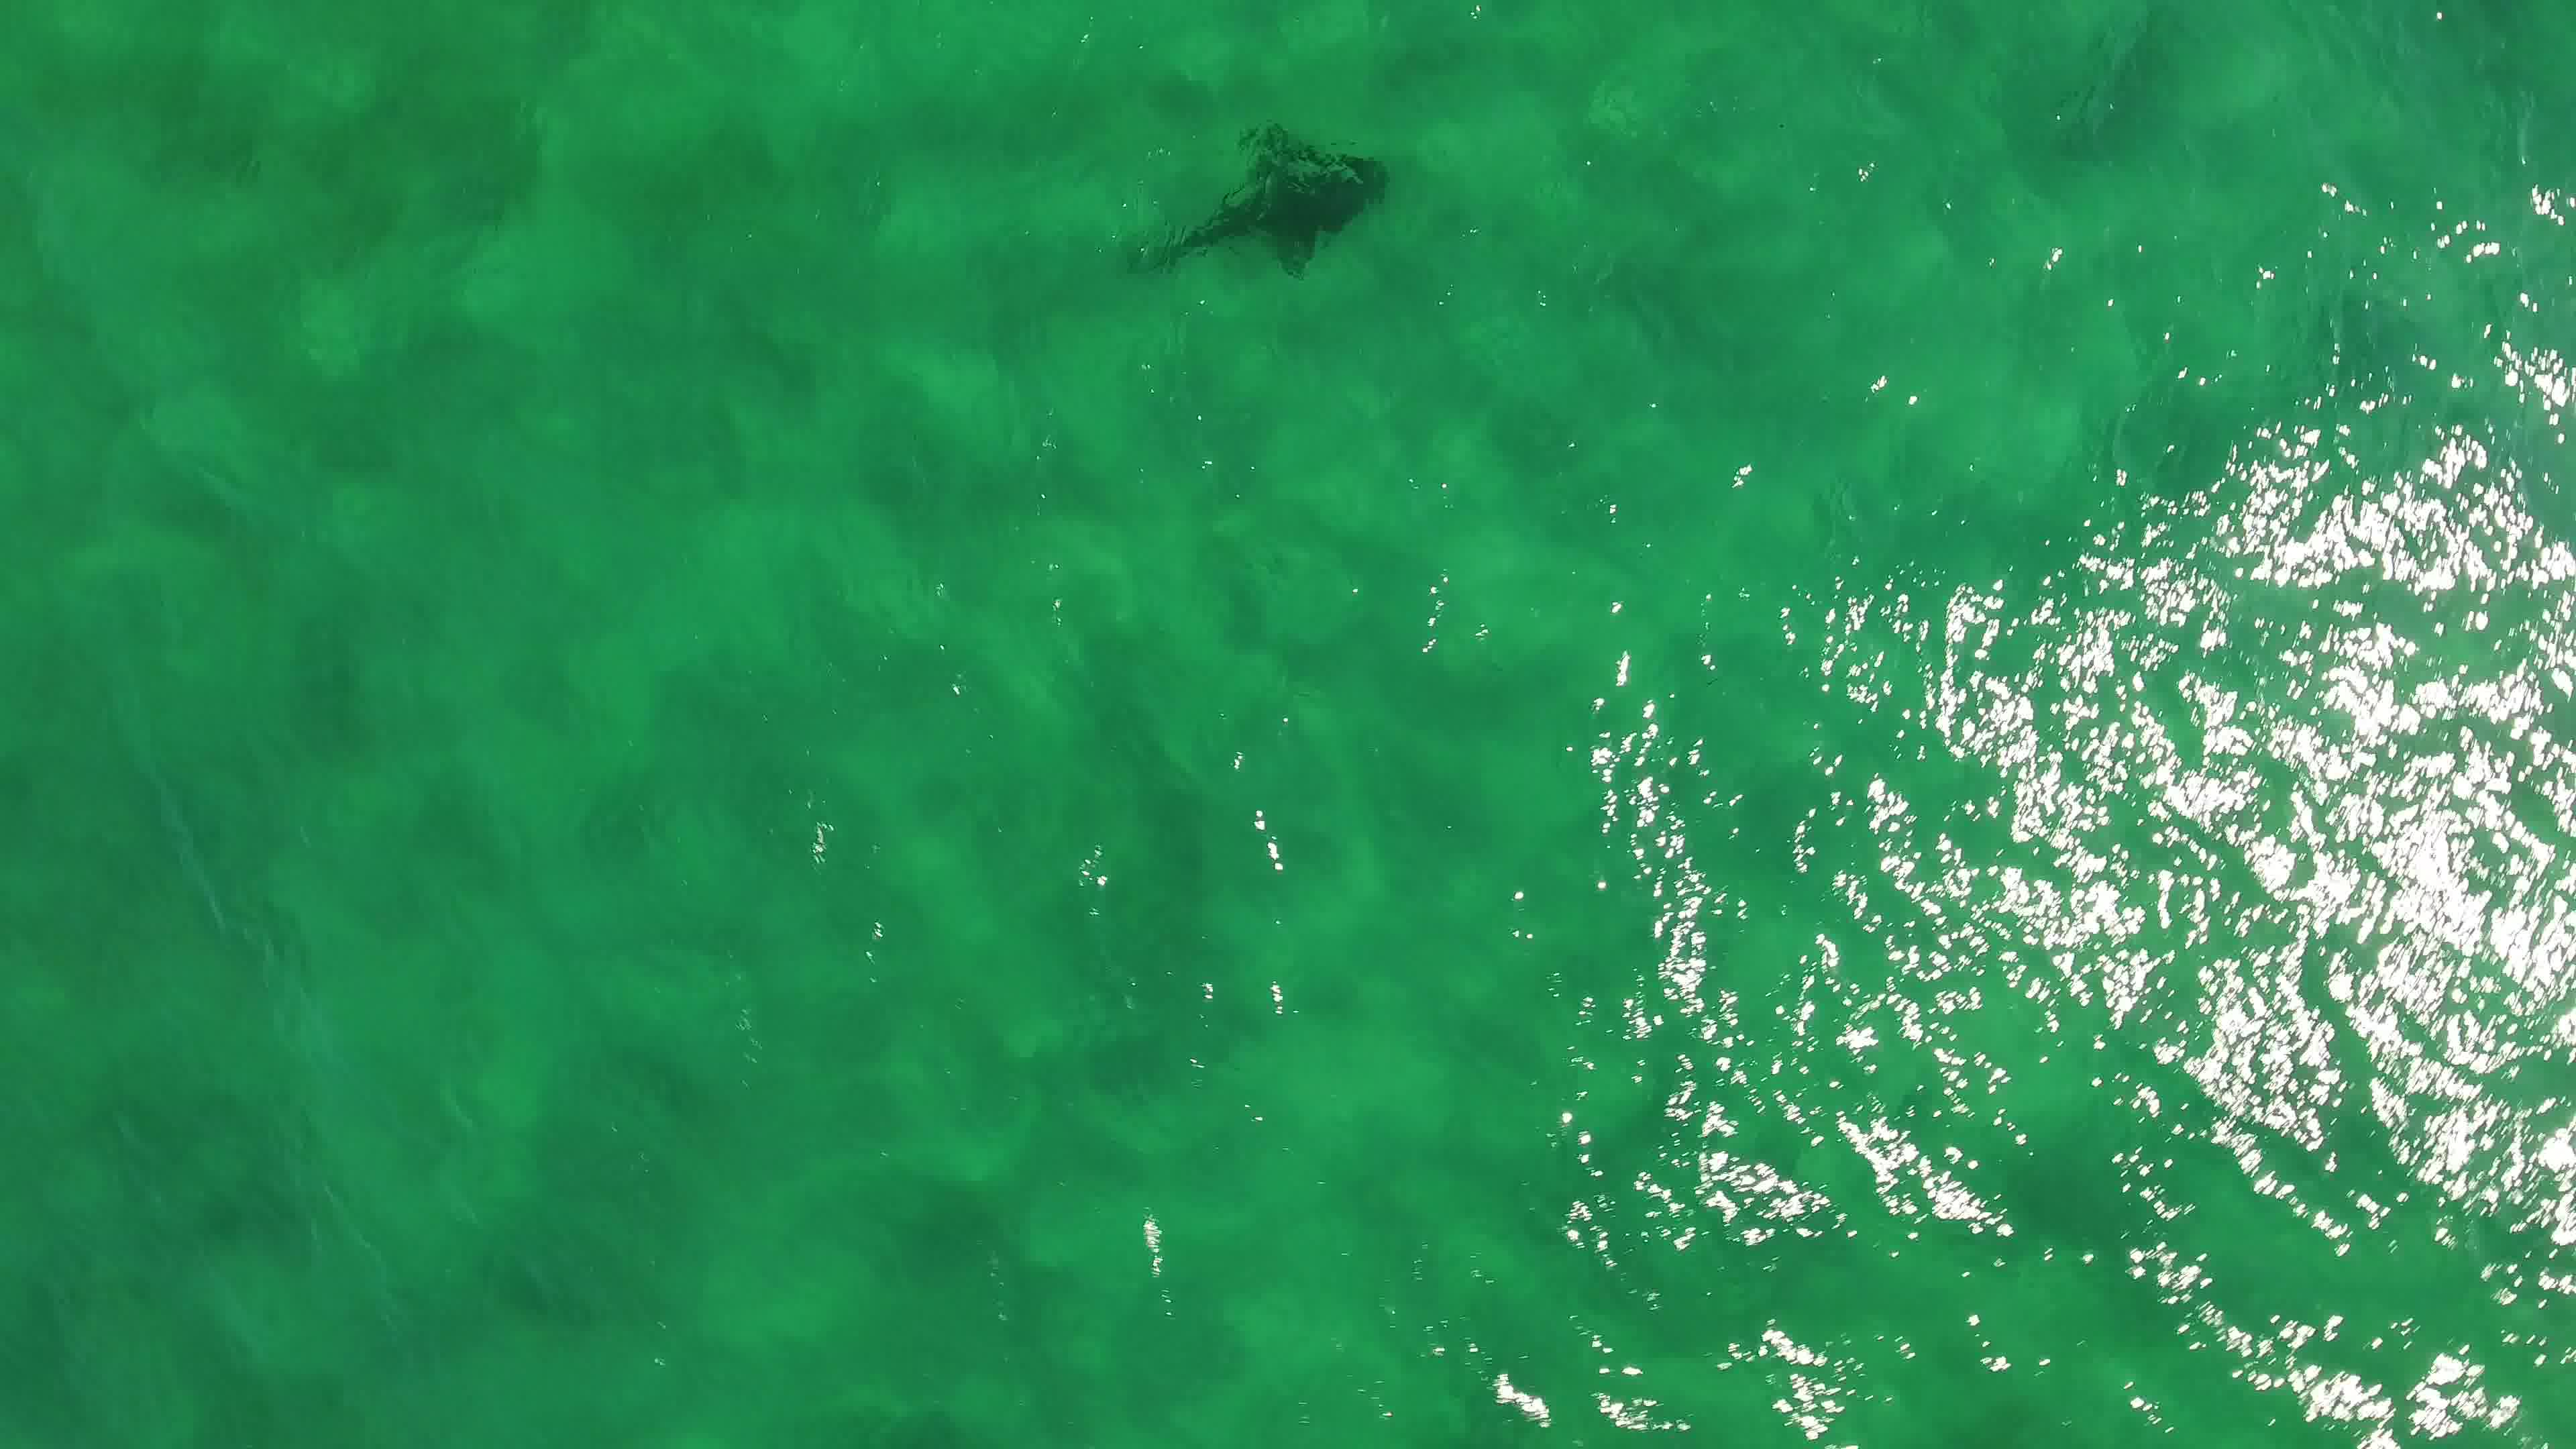shark: (1127, 115, 1394, 280)
